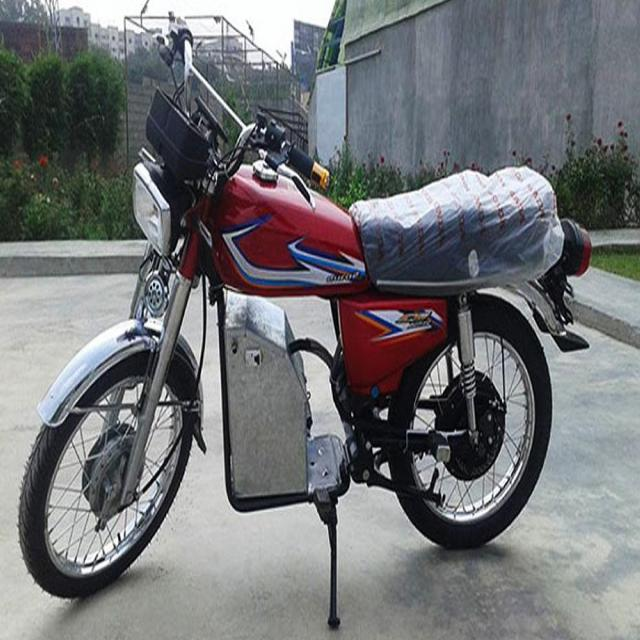motorcycle: (12, 18, 598, 606)
